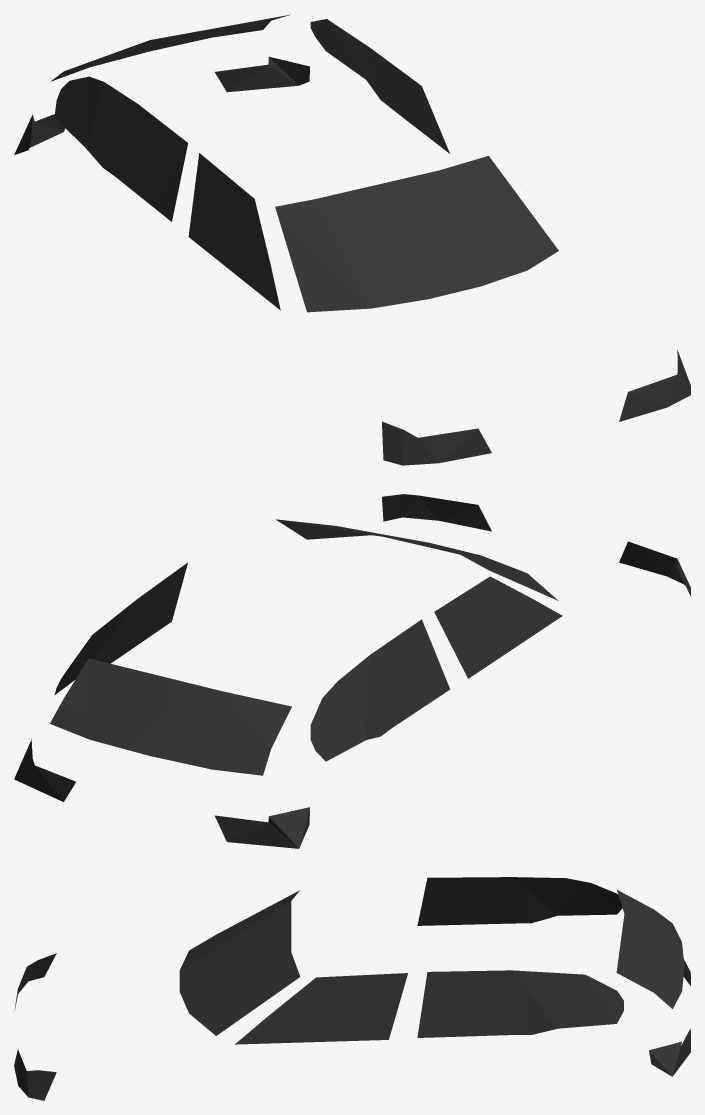
The model's file is LK4_glass_d3.obj.
The picture shows the model from 3 angles, top to bottom: view 1: azimuth 30°, elevation 25°; view 2: azimuth 150°, elevation 25°; view 3: azimuth 270°, elevation 25°; orthographic projection. The views are drawn at different scales.
Parts seen in each view (by area): view 1: LK4_body.001_LK4_body.001_DefaultMaterial; view 2: LK4_body.001_LK4_body.001_DefaultMaterial; view 3: LK4_body.001_LK4_body.001_DefaultMaterial.
Part boxes in pixels (bbox=[...]): LK4_body.001_LK4_body.001_DefaultMaterial: bbox=[14, 14, 690, 465]; LK4_body.001_LK4_body.001_DefaultMaterial: bbox=[14, 494, 690, 848]; LK4_body.001_LK4_body.001_DefaultMaterial: bbox=[14, 877, 690, 1100].
Size of the model in its own units: 1.78 by 0.779 by 4.11.
Materials: 1 (1 with a texture image).
